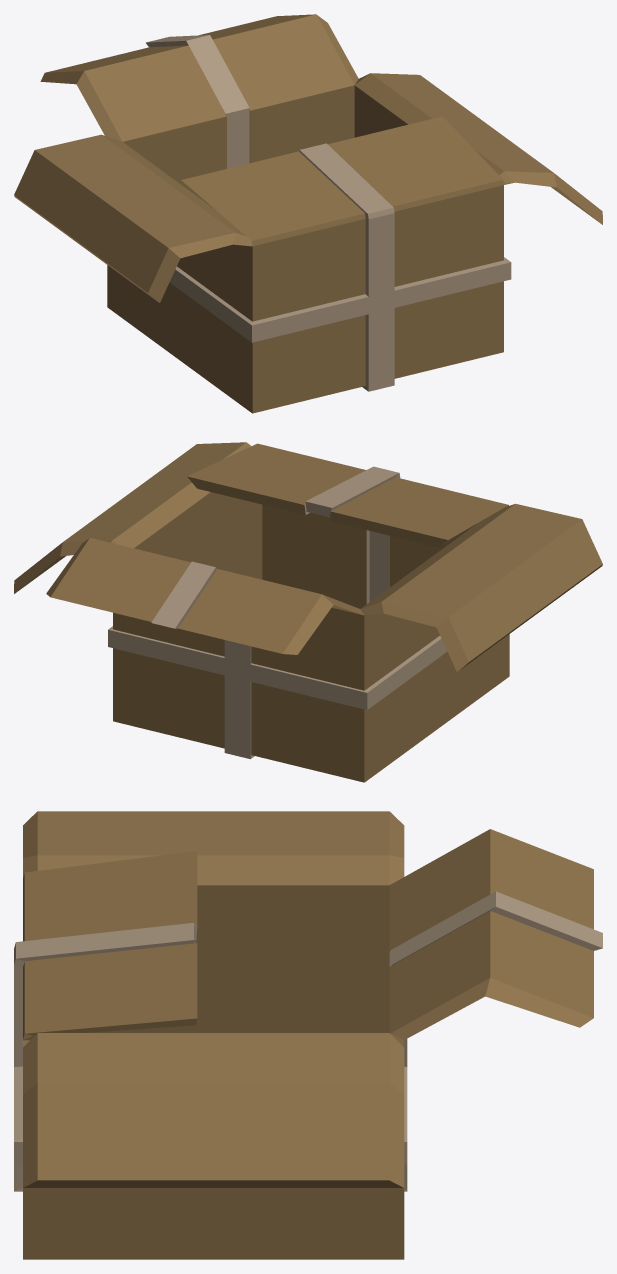
Rendered from carton 2.fbx.
3 views of the same model, one above another, from view 1: azimuth 30°, elevation 25°; view 2: azimuth 150°, elevation 25°; view 3: azimuth 270°, elevation 25° (orthographic). The views are drawn at different scales.
Parts seen in each view (by area): view 1: pCube8; view 2: pCube8; view 3: pCube8.
Part boxes in pixels (x1,y1,x2,y2): pCube8: (14, 14, 602, 413); pCube8: (14, 442, 602, 782); pCube8: (14, 811, 602, 1259).
Bounding box in the file's own units: 3.19 × 1.45 × 2.72.
